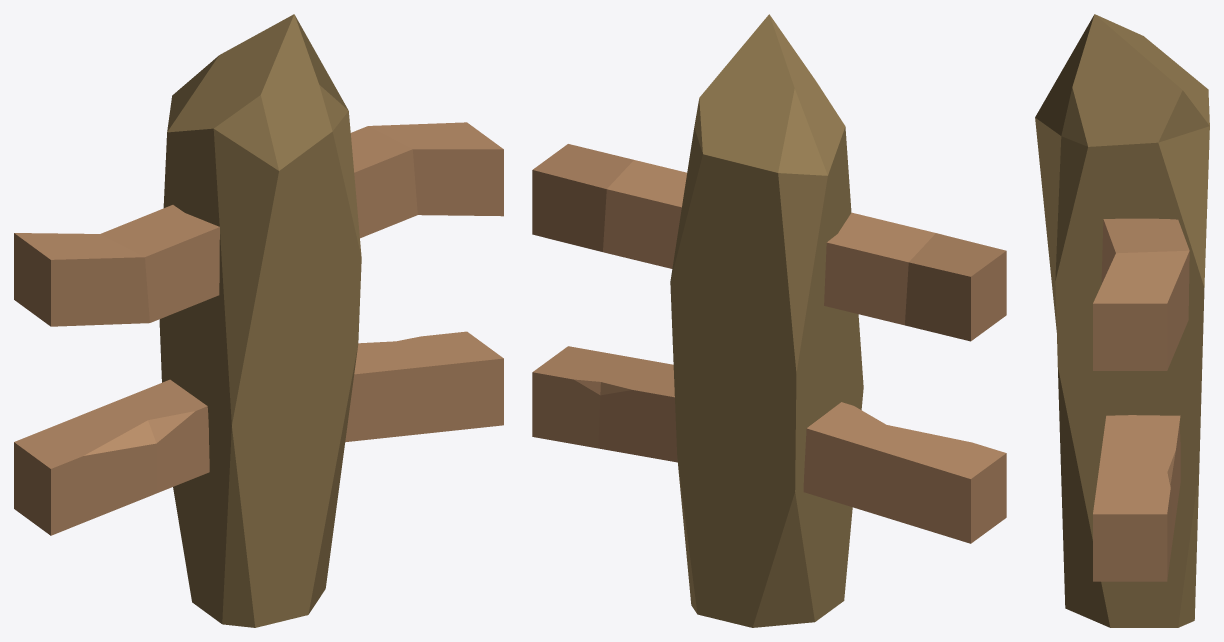
Rendered from fence_4.glb.
3 renders of one model, left to right at view 1: azimuth 30°, elevation 25°; view 2: azimuth 150°, elevation 25°; view 3: azimuth 270°, elevation 25°, orthographic. The views are drawn at different scales.
Visible parts, largest first — view 1: fence_4; view 2: fence_4; view 3: fence_4.
Part boxes in pixels (<box>): fence_4: <box>14,14,503,627</box>; fence_4: <box>532,14,1006,627</box>; fence_4: <box>1035,14,1209,627</box>.
Size of the model in its own units: 1.96 by 2.44 by 0.6512.
